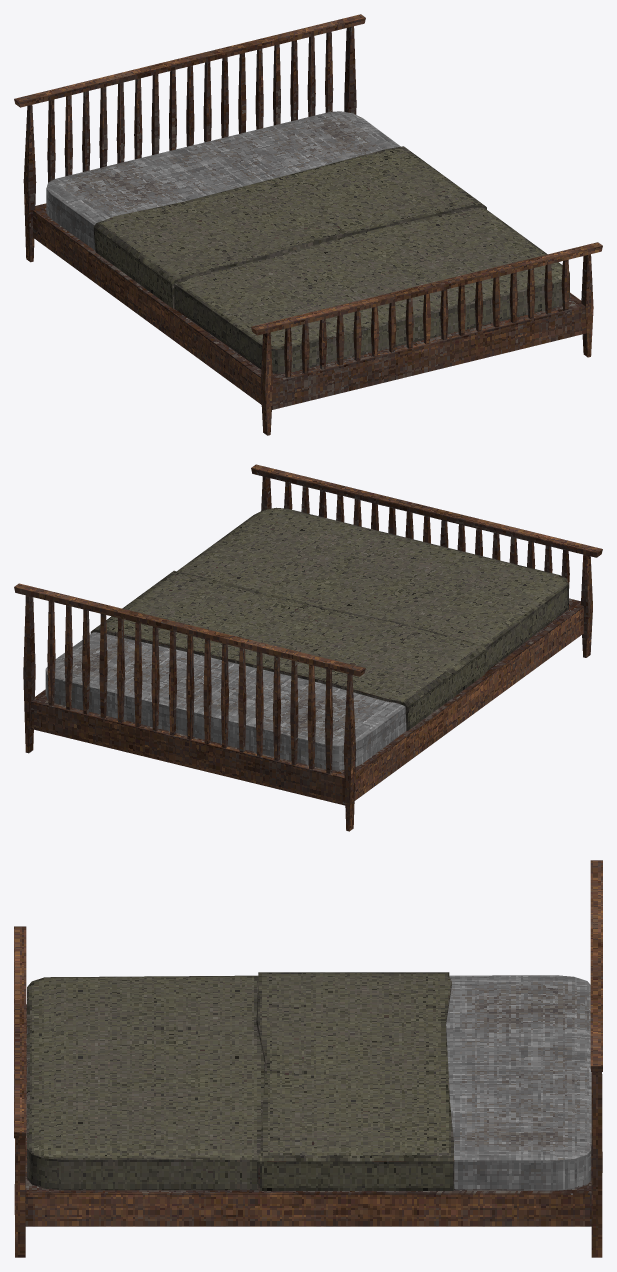
The model's file is Bed.glb.
3 views of the same model, one above another, from view 1: azimuth 30°, elevation 25°; view 2: azimuth 150°, elevation 25°; view 3: azimuth 270°, elevation 25° (orthographic). The views are drawn at different scales.
Parts seen in each view (by area): view 1: Bed; view 2: Bed; view 3: Bed.
Boxes of the visible parts, left/top/right/bottom form: Bed: left=14, top=14, right=602, bottom=435; Bed: left=14, top=464, right=602, bottom=831; Bed: left=14, top=860, right=602, bottom=1257.
Size of the model in its own units: 2 by 0.8975 by 2.42.
Materials: 1 (1 with a texture image).
